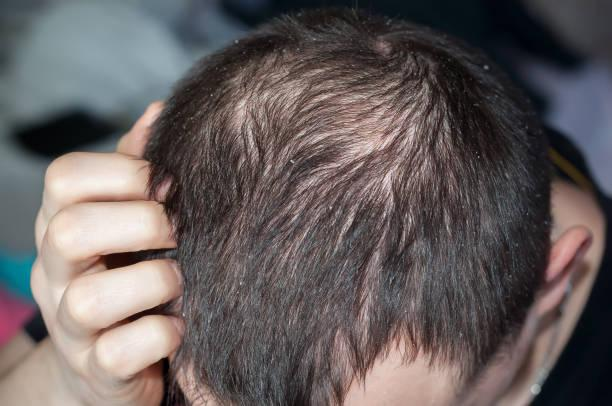dandruff: (175, 106, 202, 128), (230, 271, 246, 304), (283, 39, 306, 61), (472, 148, 494, 167), (318, 201, 341, 214), (452, 324, 468, 342), (229, 39, 249, 51), (482, 60, 493, 79)
